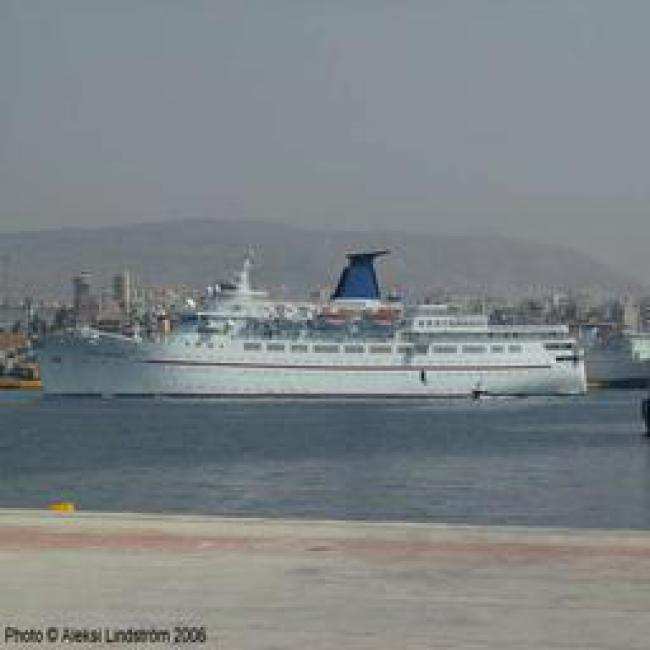Ship: (35, 318, 591, 397)
